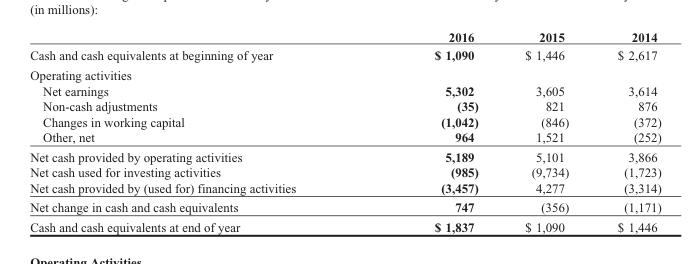table: (29, 29, 660, 233)
table column: (29, 29, 364, 233), (364, 29, 501, 233), (501, 29, 592, 233), (592, 29, 660, 233)
table column header: (29, 29, 660, 45)
table projected row header: (29, 64, 660, 82)
table row: (29, 45, 660, 64), (29, 197, 660, 216), (29, 64, 660, 82), (29, 146, 660, 164), (29, 179, 660, 197), (29, 129, 660, 146), (29, 216, 660, 233), (29, 29, 660, 45), (29, 82, 660, 98), (29, 113, 660, 129), (29, 98, 660, 113), (29, 164, 660, 179)
